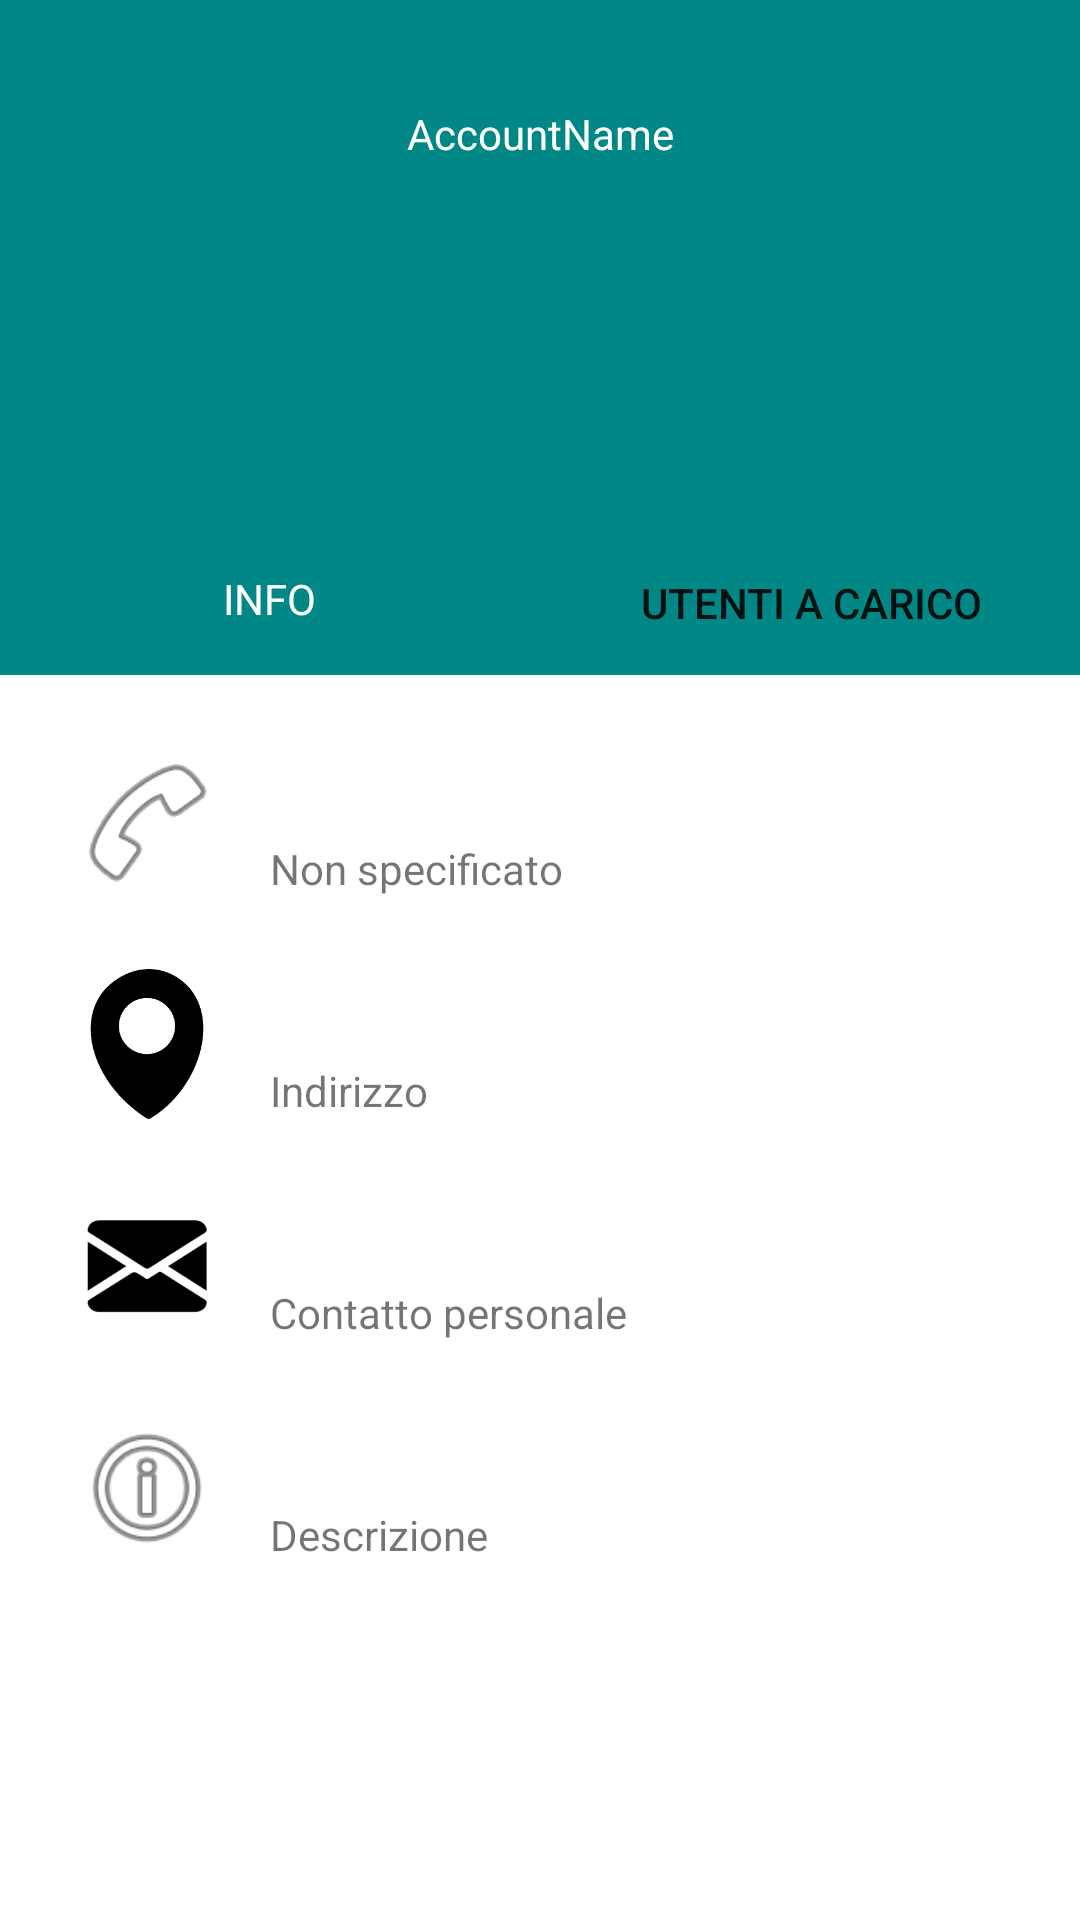

Icon click points for this 1080px x 1920px phone screenshot, format [x,y]:
INFO: [147,1488]
location: [147,1044]
mail: [147,1266]
Phone: [148,823]
